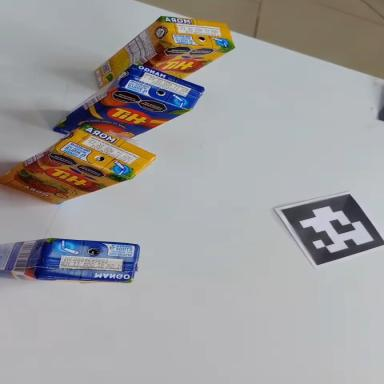HIT-MANGO: (43, 40, 210, 167), (0, 234, 140, 286)
HIT-MORA: (0, 105, 160, 219), (89, 7, 238, 88)
cara_F: (47, 65, 191, 167), (0, 134, 131, 227), (143, 19, 234, 94)
